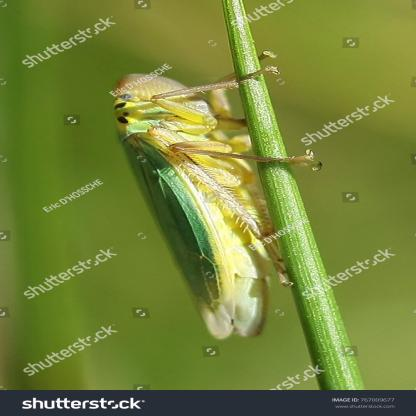Green-Leafhopper: (108, 67, 333, 344)
